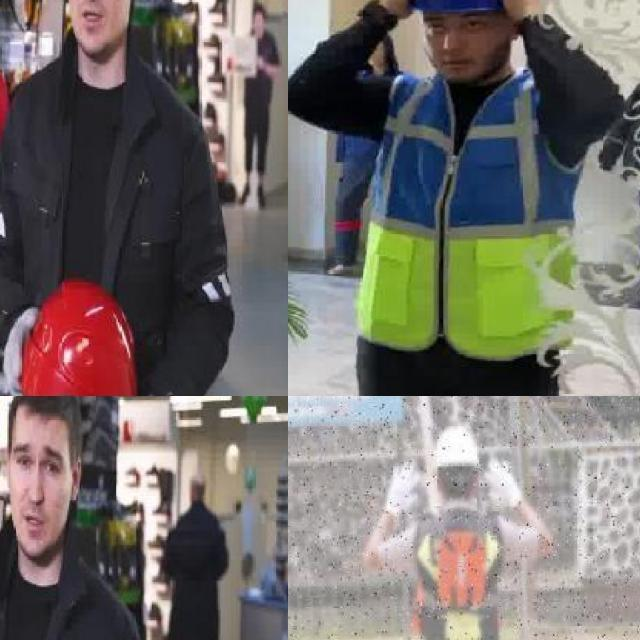apron: (1, 303, 38, 394), (380, 455, 423, 520), (482, 458, 525, 517)
